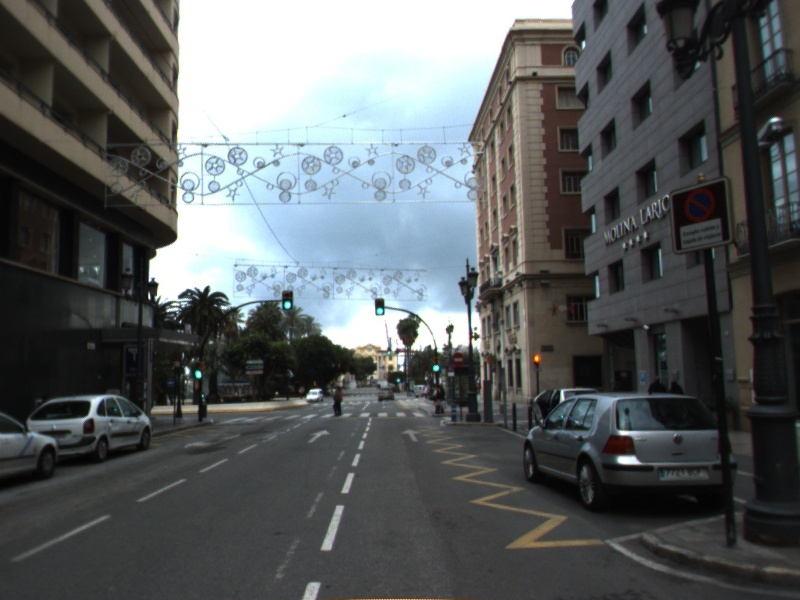STRAIGHT: (305, 428, 332, 445), (399, 427, 423, 444)
STRAIGHT_LEFT: (182, 431, 243, 451)
